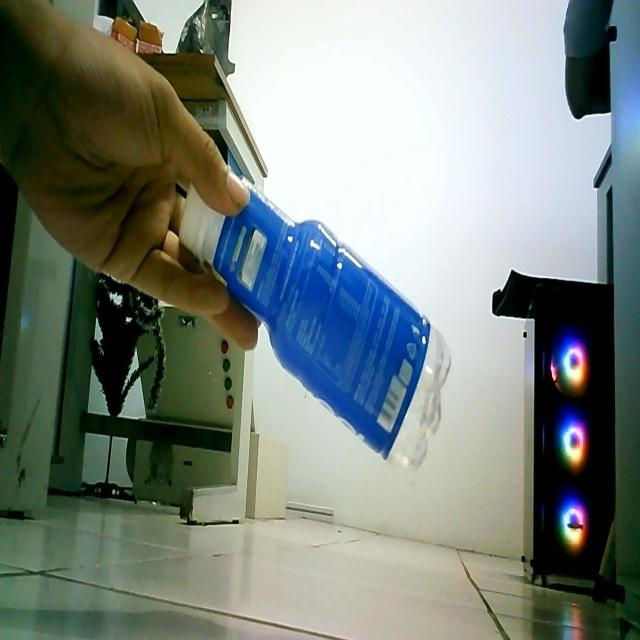botol: (174, 153, 455, 474)
